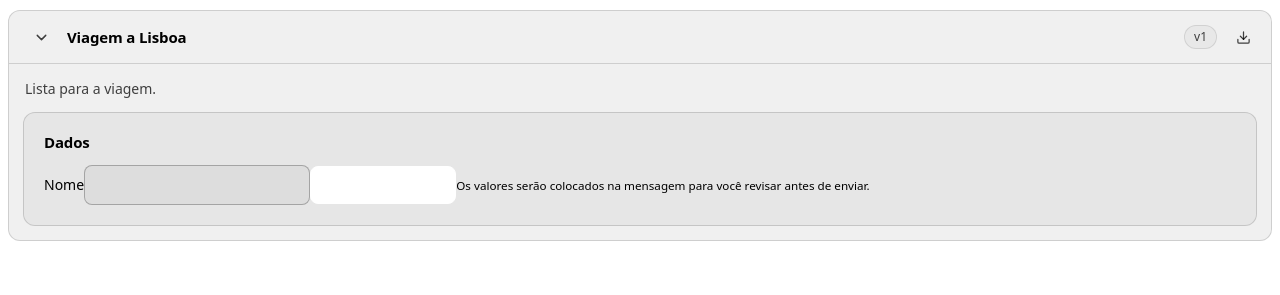
InlineCanvas › copies an action through the host's clipboard when no composer takes it
Expected: the heading "Viagem a Lisboa" is shown, [67,27,186,47]
Click the button "Enviar ao Hermes": click(383, 185) [310,166,456,204]
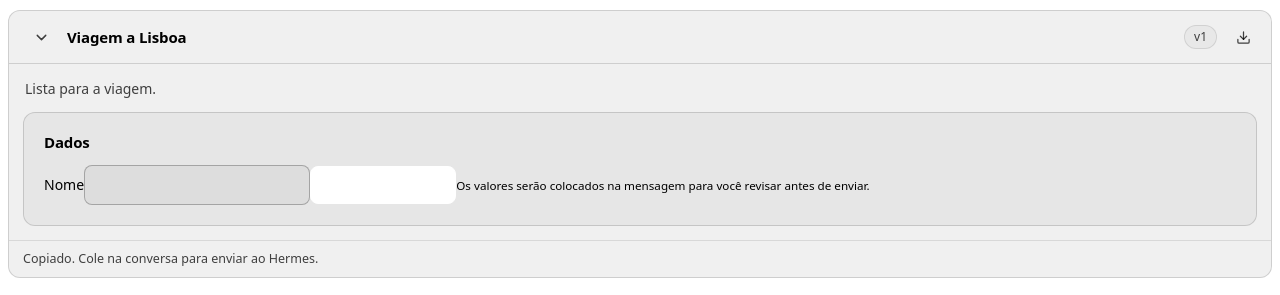
Expected: the text "Copiado. Cole na conversa para enviar ao Hermes." is shown, [23,249,318,268]
